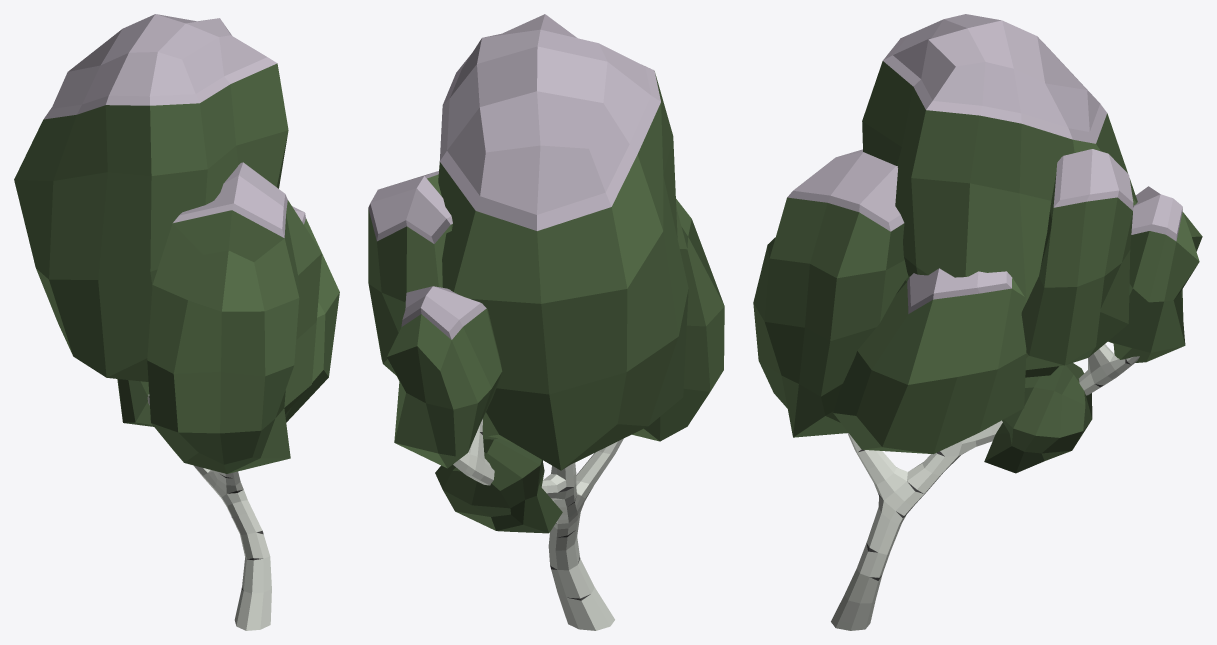
The model's file is BirchTree_Snow_1.glb.
3 renders of one model, left to right at view 1: azimuth 30°, elevation 25°; view 2: azimuth 150°, elevation 25°; view 3: azimuth 270°, elevation 25°, orthographic. The views are drawn at different scales.
Parts seen in each view (by area): view 1: BirchTree_Snow_1; view 2: BirchTree_Snow_1; view 3: BirchTree_Snow_1.
Boxes of the visible parts, box(x1,y1,x2,y2) form: BirchTree_Snow_1: box(14, 14, 339, 630); BirchTree_Snow_1: box(368, 14, 724, 630); BirchTree_Snow_1: box(753, 14, 1202, 630).
Size of the model in its own units: 1.7 by 3.59 by 2.48.
